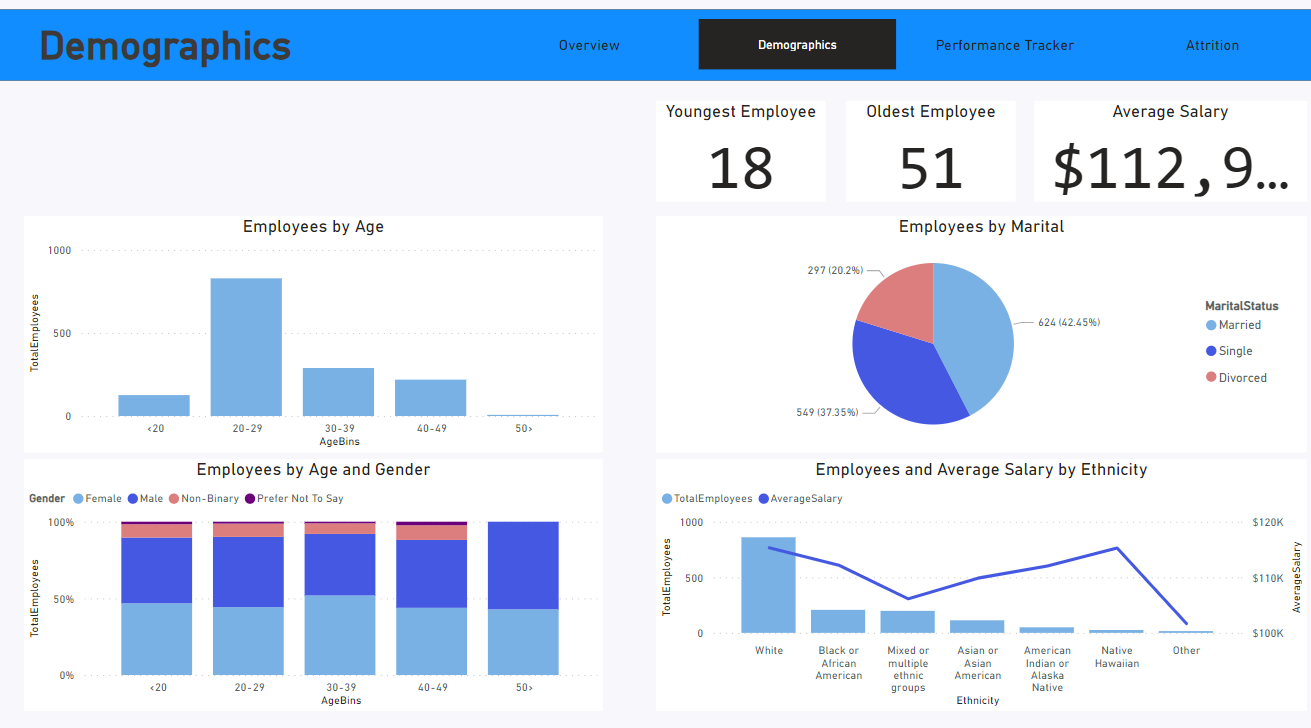

Layout of this report page (visuals, bound fields, positions):
{"tool":"powerbi","page":{"name":"Demographics","canvas":[1280,720],"ordinal":1},"visuals":[{"type":"card","title":"Youngest Employee","fields":{"Values":["Min(DimEmployee.Age)"]},"box":[640,107,165.3,98.2],"z":0},{"type":"card","title":"Oldest Employee","fields":{"Values":["Max(DimEmployee.Age)"]},"box":[824.8,107,165.3,98.2],"z":1000},{"type":"columnChart","title":"Employees by Age","fields":{"Category":["DimEmployee.AgeBins"],"Y":["_Measures.TotalEmployees"]},"box":[25.3,218.8,563.2,229.5],"z":2000},{"type":"hundredPercentStackedColumnChart","title":"Employees by Age and Gender","fields":{"Category":["DimEmployee.AgeBins"],"Y":["_Measures.TotalEmployees"],"Series":["DimEmployee.Gender"]},"box":[25.3,455.2,563.2,245.1],"z":3000},{"type":"pieChart","title":"Employees by Marital","fields":{"Category":["DimEmployee.MaritalStatus"],"Y":["_Measures.TotalEmployees"]},"box":[640,218.8,633.2,229.5],"z":4000},{"type":"card","title":"Average Salary","fields":{"Values":["_Measures.AverageSalary"]},"box":[1007.7,107,265.5,98.2],"z":5000},{"type":"lineStackedColumnComboChart","title":"Employees and Average Salary by Ethnicity","fields":{"Category":["DimEmployee.Ethnicity"],"Y":["_Measures.TotalEmployees"],"Y2":["_Measures.AverageSalary"]},"box":[640,455.2,633.2,245.1],"z":6000},{"type":"shape","box":[0,17.5,1280,70],"z":7000},{"type":"textbox","box":[35,25.3,299.6,54.5],"z":8000},{"type":"pageNavigator","box":[479.5,27.2,800.5,49.6],"z":8001}]}

Visuals, with their boxes in screenshot pixels (x1, y1, x2, y2), scaled from the page's 1280x720 canvas onto the 1311x728 screenshot:
"Youngest Employee" card: box=[656, 108, 825, 207]
"Oldest Employee" card: box=[845, 108, 1014, 207]
"Employees by Age" columnChart: box=[26, 221, 603, 453]
"Employees by Age and Gender" hundredPercentStackedColumnChart: box=[26, 460, 603, 708]
"Employees by Marital" pieChart: box=[656, 221, 1304, 453]
"Average Salary" card: box=[1032, 108, 1304, 207]
"Employees and Average Salary by Ethnicity" lineStackedColumnComboChart: box=[656, 460, 1304, 708]
shape: box=[0, 18, 1310, 88]
textbox: box=[36, 26, 343, 81]
pageNavigator: box=[491, 28, 1310, 78]
